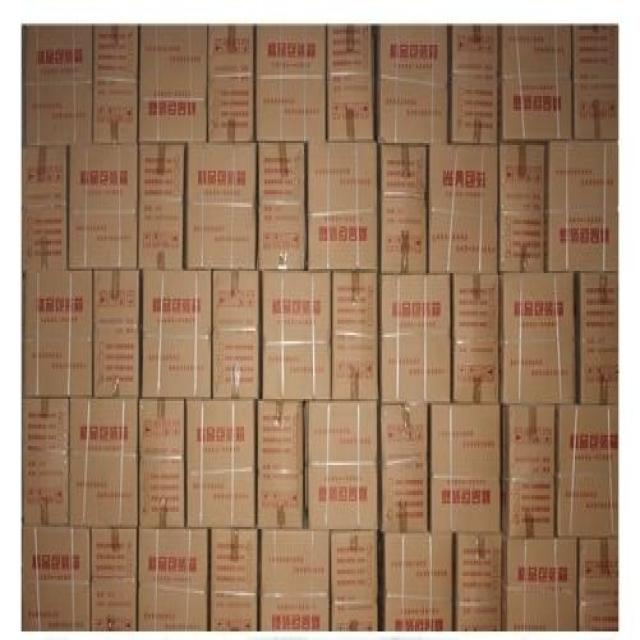box: (498, 271, 576, 405), (379, 273, 452, 403), (141, 269, 212, 399), (23, 269, 93, 399), (262, 271, 332, 401), (554, 401, 618, 540), (499, 403, 556, 538), (261, 529, 330, 629), (212, 269, 262, 399), (451, 271, 499, 403), (92, 269, 139, 399), (332, 271, 379, 401), (575, 271, 618, 403), (68, 454, 139, 529), (428, 463, 503, 533), (544, 141, 618, 211), (374, 75, 450, 143), (377, 531, 453, 599), (307, 205, 381, 273), (429, 203, 499, 273), (305, 141, 379, 207), (254, 77, 327, 143), (305, 465, 378, 531), (497, 79, 572, 143), (66, 205, 138, 271), (185, 461, 257, 527), (183, 143, 257, 207), (304, 401, 378, 465), (427, 403, 503, 465), (137, 527, 210, 591), (543, 209, 618, 271), (66, 141, 138, 205), (183, 207, 257, 269), (429, 143, 499, 207), (185, 399, 255, 463), (138, 81, 208, 143), (23, 523, 91, 585), (501, 535, 577, 589), (26, 81, 92, 143), (497, 26, 572, 79), (254, 26, 327, 79), (374, 26, 447, 79), (138, 26, 208, 81), (26, 26, 93, 83), (69, 399, 138, 454), (447, 73, 498, 145), (330, 531, 379, 604), (498, 587, 579, 631), (379, 203, 429, 273), (453, 533, 503, 602), (255, 141, 307, 207), (22, 454, 69, 527), (138, 457, 187, 527), (208, 525, 257, 595), (378, 465, 428, 533), (23, 580, 91, 629), (257, 461, 304, 531), (377, 401, 428, 465), (327, 75, 376, 141), (257, 207, 307, 271), (378, 141, 429, 203), (137, 141, 184, 207), (22, 203, 66, 273), (137, 587, 210, 629), (207, 79, 254, 143), (498, 145, 545, 209), (137, 205, 183, 269), (89, 527, 138, 587), (91, 81, 138, 143), (572, 79, 618, 141), (498, 209, 544, 271), (258, 401, 304, 463), (447, 26, 497, 81), (22, 143, 66, 205), (22, 399, 69, 457), (138, 401, 185, 459), (92, 26, 139, 81), (208, 26, 254, 81), (572, 26, 618, 79), (327, 26, 374, 77), (379, 599, 453, 629), (577, 540, 617, 593), (91, 585, 138, 629), (208, 595, 258, 631), (577, 589, 617, 629), (452, 599, 502, 629), (330, 599, 379, 629)
